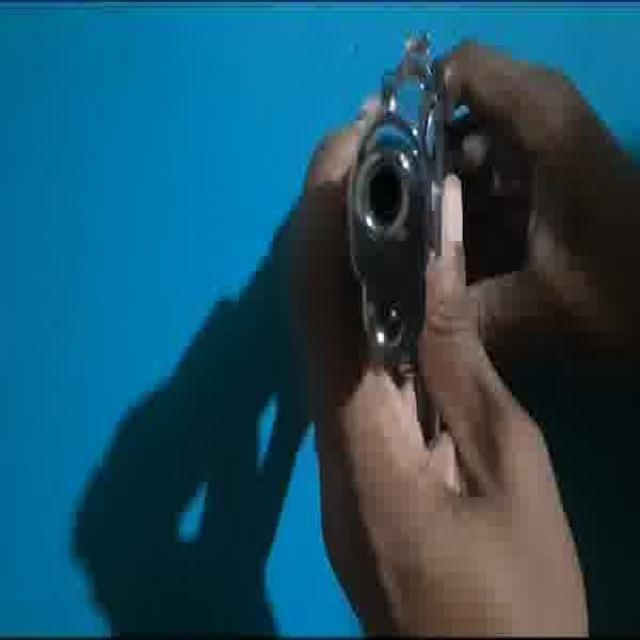weapon: (343, 29, 458, 438)
